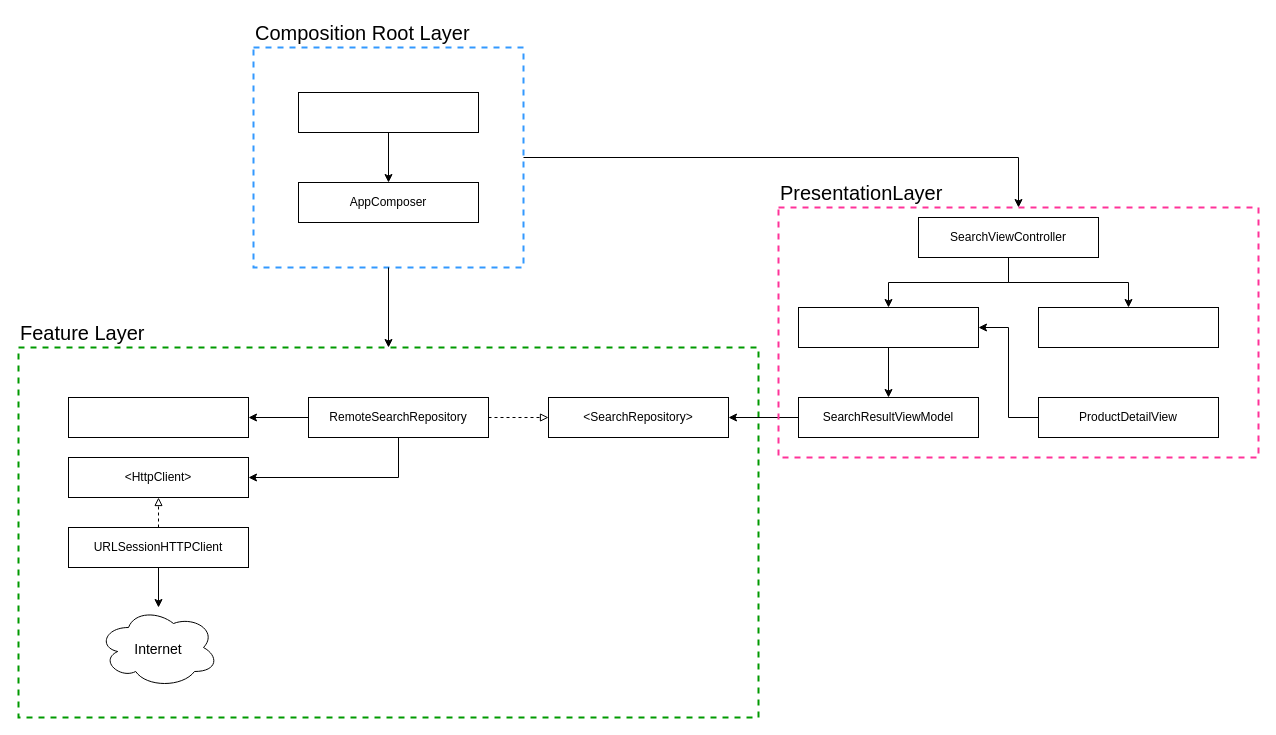
This 1276x735 diagram has some shape labels left out. The shapes that lost their labels are listed below. From the top down, each one's box as (x1, y1, x2, y2) in pixels, then its label:
(298, 92, 478, 132): AppDelegate
(798, 306, 978, 348): SearchResultViewController
(1038, 306, 1218, 348): UISearchController
(68, 396, 248, 438): SearchProductsMapper
